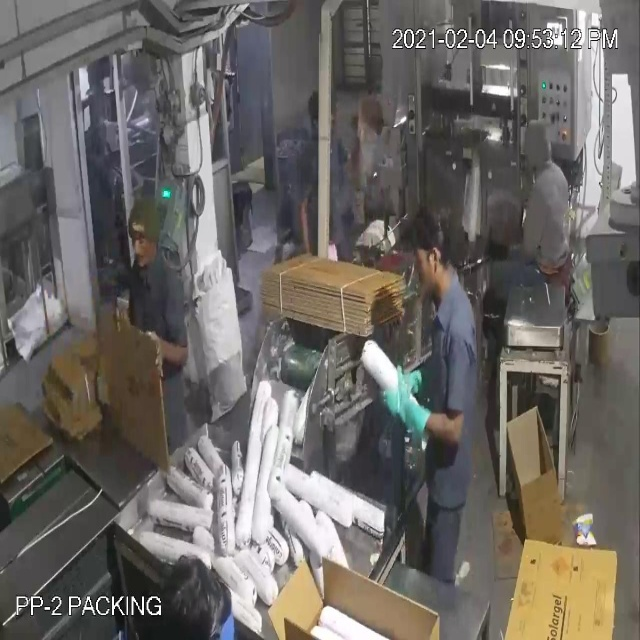Guantes: (372, 351, 435, 453)
Sin_guantes: (136, 320, 197, 396), (298, 182, 320, 278)
